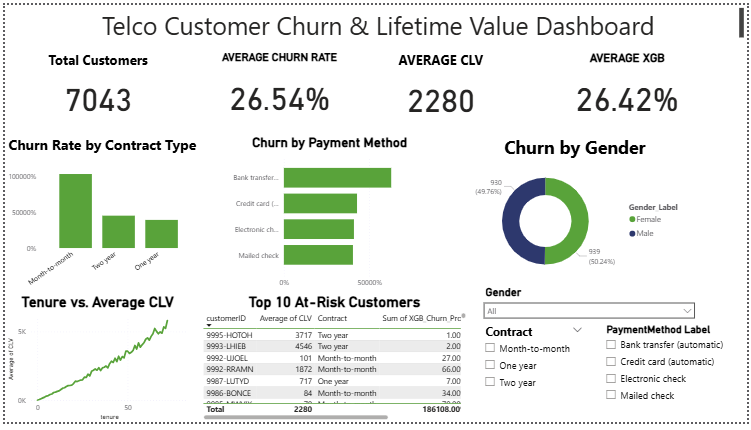

Layout of this report page (visuals, bound fields, positions):
{"tool":"powerbi","page":{"name":"Page 1","canvas":[1280,720],"ordinal":0},"visuals":[{"type":"textbox","box":[16,0,1264,64],"z":0},{"type":"card","title":"Total Customers","fields":{"Values":["CountNonNull(Telco_Churn DashboardData.customerID)"]},"box":[32,80,256,128],"z":1000,"group":"g1"},{"type":"card","title":"AVERAGE CHURN RATE","fields":{"Values":["Avg(Telco_Churn DashboardData.Churn_Rate)"]},"box":[352,80,240,128],"z":2000,"group":"g1"},{"type":"card","title":"AVERAGE CLV","fields":{"Values":["Avg(Telco_Churn DashboardData.CLV)"]},"box":[640,80,224,128],"z":3000,"group":"g1"},{"type":"card","title":"AVERAGE XGB","fields":{"Values":["Avg(Telco_Churn DashboardData.XGB_Churn_Prob)"]},"box":[944,80,256,128],"z":4000,"group":"g1"},{"type":"lineChart","title":"Tenure vs. Average CLV","fields":{"Category":["Telco_Churn DashboardData.tenure"],"Y":["Avg(Telco_Churn DashboardData.CLV)"]},"box":[0,496,320,224],"z":4000},{"type":"clusteredColumnChart","title":"Churn Rate by Contract Type","fields":{"Category":["Telco_Churn DashboardData.Contract"],"Y":["Sum(Telco_Churn DashboardData.Churn_Rate)"]},"box":[0,224,336,272],"z":4500},{"type":"barChart","title":"Churn by Payment Method","fields":{"Category":["Telco_Churn DashboardData.PaymentMethod Label"],"Y":["Sum(Telco_Churn DashboardData.Churn_Rate)"]},"box":[376,224,368,272],"z":4750},{"type":"donutChart","title":"Churn by Gender","fields":{"Category":["Telco_Churn DashboardData.Gender_Label"],"Y":["Sum(Telco_Churn DashboardData.Churn)"]},"box":[784,224,400,256],"z":4875},{"type":"tableEx","title":"Top 10 At-Risk Customers","fields":{"Values":["Telco_Churn DashboardData.customerID","Avg(Telco_Churn DashboardData.CLV)","Telco_Churn DashboardData.Contract","Sum(Telco_Churn DashboardData.XGB_Churn_Prob)","Telco_Churn DashboardData.PaymentMethod Label"]},"box":[336,496,464,224],"z":5000},{"type":"slicer","fields":{"Values":["Telco_Churn DashboardData.Gender_Label"]},"box":[816,480,384,64],"z":6000},{"type":"slicer","fields":{"Values":["Telco_Churn DashboardData.Contract"]},"box":[816,544,192,176],"z":7000},{"type":"slicer","fields":{"Values":["Telco_Churn DashboardData.PaymentMethod Label"]},"box":[1024,544,240,176],"z":8000},{"type":"group","id":"g1","title":"Group 1","box":[32,80,1168,128],"z":9000}]}

Visuals, with their boxes in screenshot pixels (x1, y1, x2, y2), scaled from the page's 1280x720 canvas onto the 751x430 screenshot:
textbox: Rect(9, 0, 750, 38)
"Total Customers" card: Rect(19, 48, 169, 124)
"AVERAGE CHURN RATE" card: Rect(207, 48, 347, 124)
"AVERAGE CLV" card: Rect(376, 48, 507, 124)
"AVERAGE XGB" card: Rect(554, 48, 704, 124)
"Tenure vs. Average CLV" lineChart: Rect(0, 296, 188, 429)
"Churn Rate by Contract Type" clusteredColumnChart: Rect(0, 134, 197, 296)
"Churn by Payment Method" barChart: Rect(221, 134, 437, 296)
"Churn by Gender" donutChart: Rect(460, 134, 695, 287)
"Top 10 At-Risk Customers" tableEx: Rect(197, 296, 469, 429)
slicer - Telco_Churn DashboardData.Gender_Label: Rect(479, 287, 704, 325)
slicer - Telco_Churn DashboardData.Contract: Rect(479, 325, 591, 429)
slicer - Telco_Churn DashboardData.PaymentMethod Label: Rect(601, 325, 742, 429)
"Group 1" group: Rect(19, 48, 704, 124)
